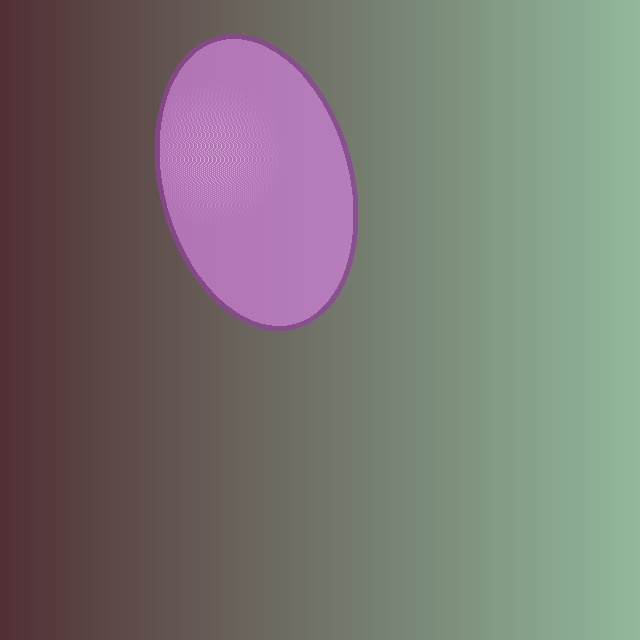lens: (157, 37, 355, 327)
